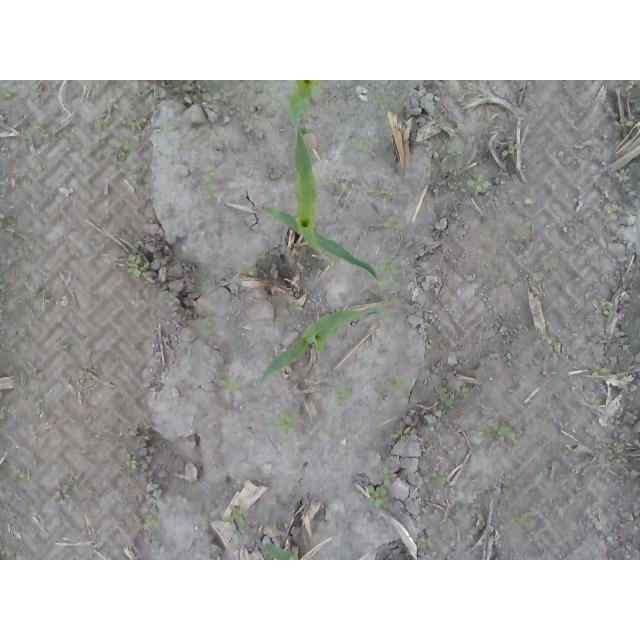Maize: (263, 126, 386, 287), (258, 305, 395, 384), (288, 81, 320, 132), (264, 541, 301, 560)
Weeds: (273, 406, 307, 446), (481, 419, 528, 447), (201, 160, 224, 201), (225, 503, 252, 529), (366, 484, 391, 512), (432, 383, 454, 413), (128, 253, 153, 279), (235, 256, 258, 280), (465, 175, 494, 194), (174, 80, 214, 93), (353, 133, 377, 154), (383, 375, 409, 394), (616, 440, 633, 469), (383, 255, 400, 282), (31, 288, 49, 313), (614, 116, 635, 136), (135, 514, 161, 530), (378, 463, 394, 488), (432, 467, 453, 486), (198, 319, 218, 338), (219, 376, 241, 393), (57, 481, 73, 504), (501, 141, 520, 160), (510, 509, 529, 528), (122, 111, 142, 129), (369, 94, 391, 110), (389, 425, 411, 441), (114, 144, 134, 161), (31, 119, 49, 137), (125, 451, 139, 474), (370, 188, 393, 202), (612, 169, 633, 184), (95, 112, 114, 128), (334, 386, 355, 400), (448, 142, 465, 159), (455, 386, 472, 403), (0, 209, 16, 227), (1, 84, 20, 99), (416, 535, 433, 551), (95, 129, 110, 146), (384, 215, 409, 225), (29, 393, 45, 408), (518, 223, 530, 242), (128, 174, 145, 187), (545, 337, 560, 351), (167, 394, 183, 407), (606, 202, 619, 218), (591, 367, 609, 378), (319, 426, 337, 437), (0, 542, 12, 558), (287, 303, 297, 322), (319, 175, 337, 185), (0, 272, 8, 293), (254, 80, 274, 88), (165, 294, 177, 306), (302, 111, 314, 123), (532, 272, 540, 289), (567, 152, 578, 164), (548, 464, 556, 480), (79, 368, 93, 377), (512, 372, 521, 385), (159, 209, 170, 219), (327, 255, 338, 265), (591, 399, 601, 410), (16, 468, 25, 480), (600, 304, 609, 315), (624, 208, 636, 216), (301, 247, 310, 257), (500, 271, 509, 281), (104, 552, 113, 560), (164, 127, 172, 134)
